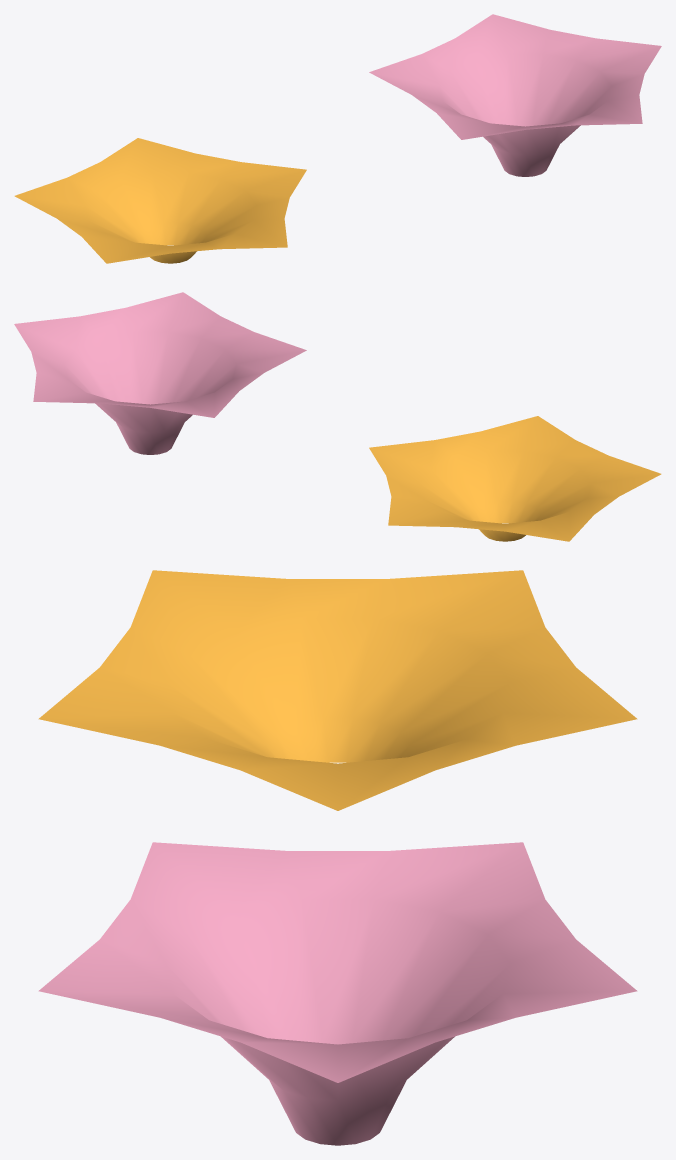
The model's file is forest-blossoms.glb.
3 renders of one model, top to bottom at view 1: azimuth 30°, elevation 25°; view 2: azimuth 150°, elevation 25°; view 3: azimuth 270°, elevation 25°, orthographic. The views are drawn at different scales.
Visible parts, largest first — view 1: Trumpet Tree blossom, Yellow Flame blossom; view 2: Trumpet Tree blossom, Yellow Flame blossom; view 3: Trumpet Tree blossom, Yellow Flame blossom.
Part boxes in pixels (<box>): Trumpet Tree blossom: <box>369,14,661,176</box>; Yellow Flame blossom: <box>14,138,306,263</box>; Trumpet Tree blossom: <box>14,292,306,454</box>; Yellow Flame blossom: <box>369,416,661,541</box>; Trumpet Tree blossom: <box>38,842,637,1145</box>; Yellow Flame blossom: <box>38,570,637,810</box>.
Size of the model in its own units: 4.41 by 0.62 by 1.9.
